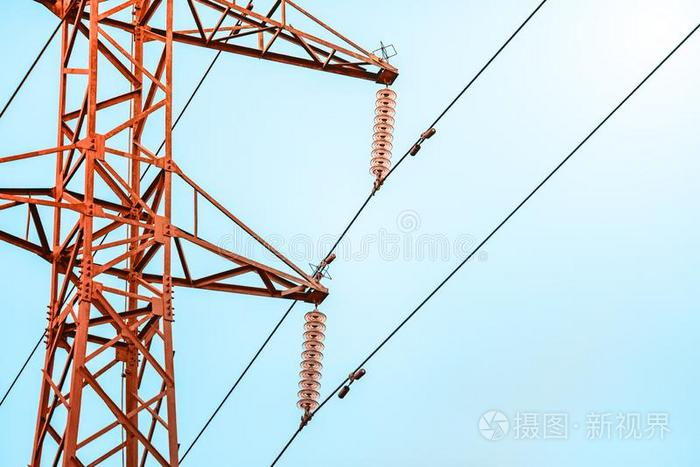insulator: (295, 310, 327, 411), (368, 89, 398, 178)
